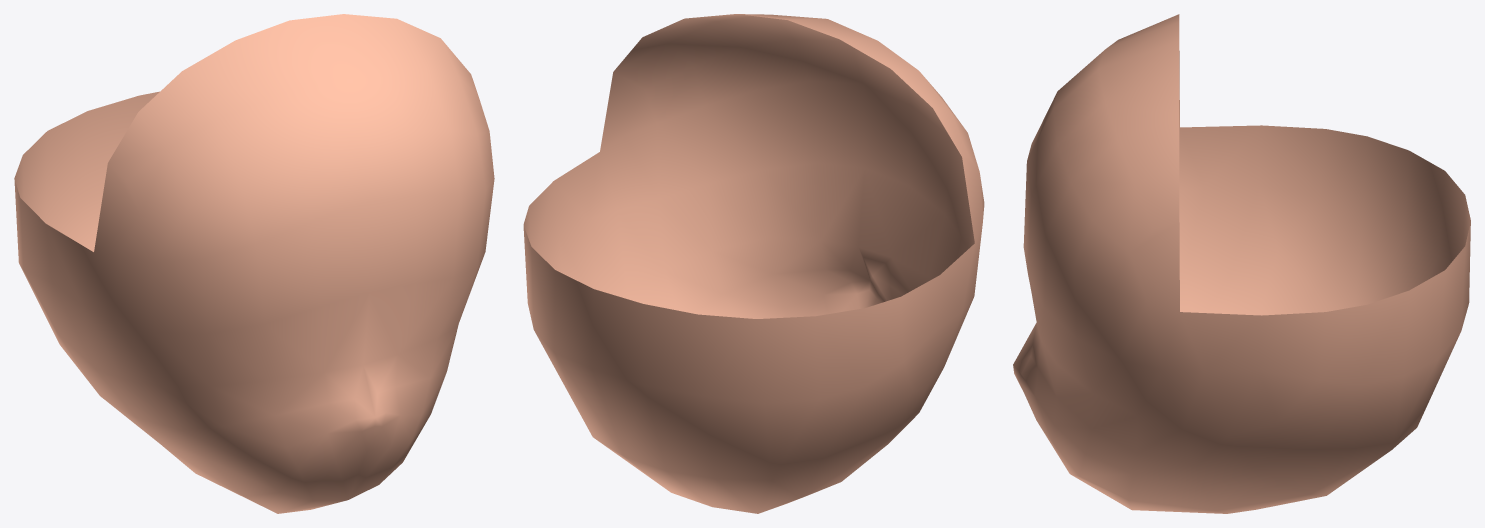
The picture shows the model from 3 angles, left to right: view 1: azimuth 30°, elevation 25°; view 2: azimuth 150°, elevation 25°; view 3: azimuth 270°, elevation 25°; orthographic projection. The views are drawn at different scales.
Visible parts, largest first — view 1: AF_M_Face_20; view 2: AF_M_Face_20; view 3: AF_M_Face_20.
Part boxes in pixels (x1,y1,x2,y2): AF_M_Face_20: (14, 14, 494, 513); AF_M_Face_20: (523, 14, 984, 513); AF_M_Face_20: (1013, 14, 1470, 513).
Size of the model in its own units: 649 by 731 by 661.
Materials: 1 (1 with a texture image).
